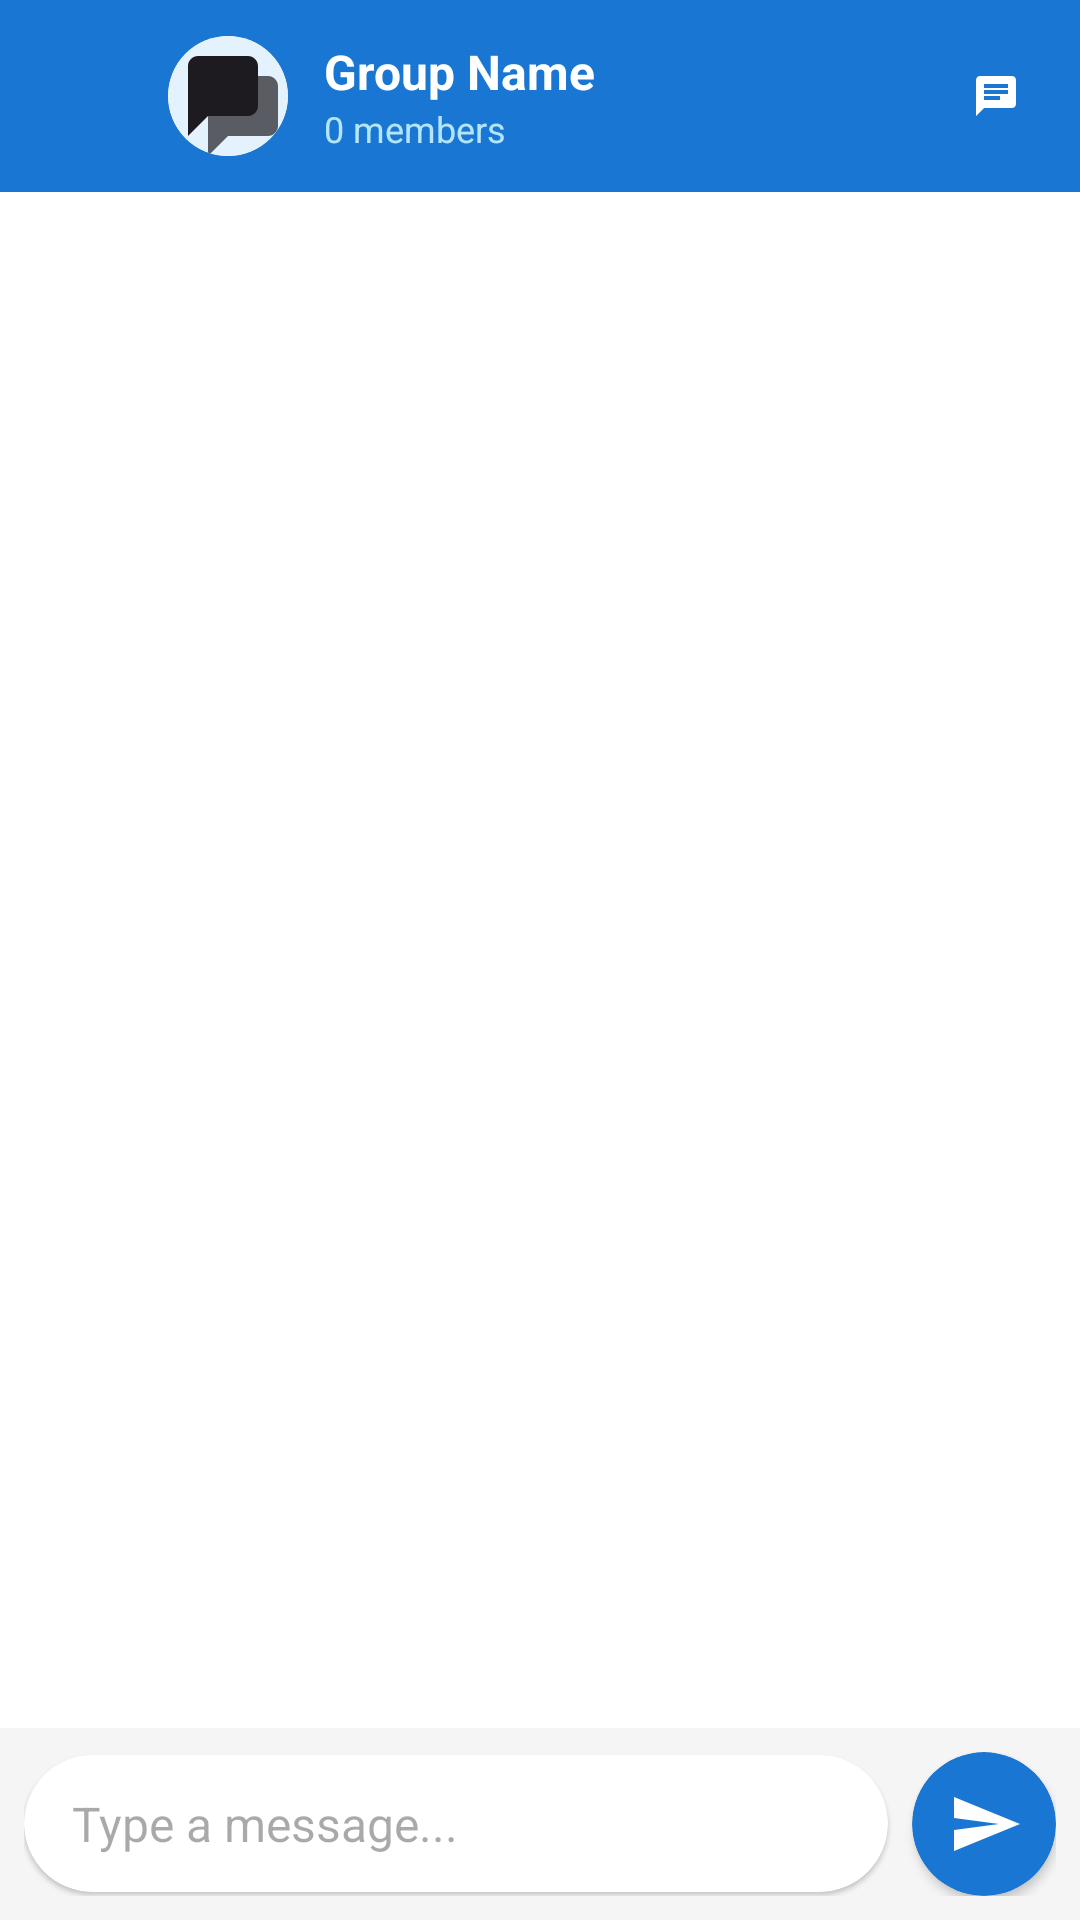

Locate icon controls on the screen. Image size 1080 x 1920, boxes as (x1, y1, x2, y2).
chat empty: (976, 76, 1016, 116)
send: (954, 1797, 1020, 1851)
